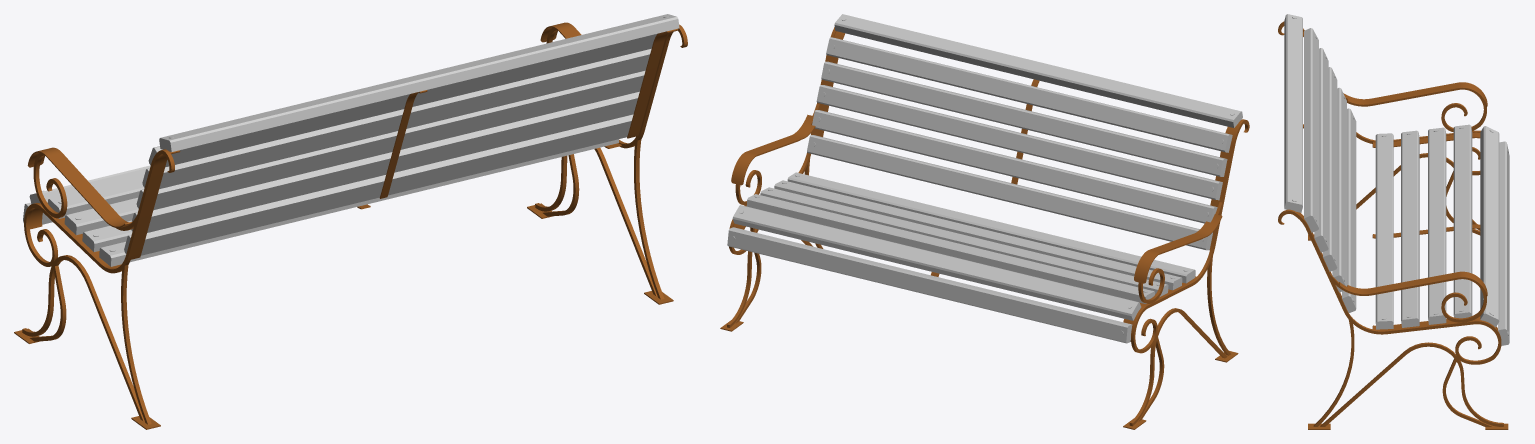
3 views of the same model, side by side, from view 1: azimuth 30°, elevation 25°; view 2: azimuth 150°, elevation 25°; view 3: azimuth 270°, elevation 25° (orthographic). The views are drawn at different scales.
Visible parts, largest first — view 1: mesh5_mesh5-geometry, mesh38_mesh38-geometry, mesh36_mesh36-geometry, mesh43_mesh43-geometry, mesh24_mesh24-geometry, mesh10_mesh10-geometry, mesh34_mesh34-geometry, mesh15_mesh15-geometry, mesh29_mesh29-geometry, mesh41_mesh41-geometry, mesh2_mesh2-geometry, mesh19_mesh19-geometry; view 2: mesh5_mesh5-geometry, mesh38_mesh38-geometry, mesh46_mesh46-geometry, mesh36_mesh36-geometry, mesh17_mesh17-geometry, mesh43_mesh43-geometry, mesh41_mesh41-geometry, mesh34_mesh34-geometry; view 3: mesh5_mesh5-geometry, mesh19_mesh19-geometry, mesh24_mesh24-geometry, mesh17_mesh17-geometry, mesh36_mesh36-geometry, mesh22_mesh22-geometry, mesh41_mesh41-geometry, mesh15_mesh15-geometry, mesh13_mesh13-geometry, mesh46_mesh46-geometry, mesh38_mesh38-geometry, mesh43_mesh43-geometry.
Part boxes in pixels (x1=…): mesh5_mesh5-geometry: x1=23, y1=14, x2=679, y2=266; mesh38_mesh38-geometry: x1=24, y1=149, x2=174, y2=273; mesh36_mesh36-geometry: x1=27, y1=147, x2=132, y2=227; mesh43_mesh43-geometry: x1=22, y1=255, x2=144, y2=421; mesh24_mesh24-geometry: x1=535, y1=147, x2=657, y2=296; mesh10_mesh10-geometry: x1=627, y1=28, x2=678, y2=138; mesh34_mesh34-geometry: x1=121, y1=264, x2=151, y2=424; mesh15_mesh15-geometry: x1=634, y1=139, x2=664, y2=299; mesh29_mesh29-geometry: x1=131, y1=150, x2=180, y2=259; mesh41_mesh41-geometry: x1=33, y1=153, x2=136, y2=230; mesh2_mesh2-geometry: x1=379, y1=90, x2=427, y2=198; mesh19_mesh19-geometry: x1=618, y1=24, x2=687, y2=148; mesh5_mesh5-geometry: x1=727, y1=14, x2=1242, y2=343; mesh38_mesh38-geometry: x1=1131, y1=119, x2=1249, y2=353; mesh46_mesh46-geometry: x1=837, y1=41, x2=947, y2=80; mesh36_mesh36-geometry: x1=1134, y1=214, x2=1222, y2=283; mesh17_mesh17-geometry: x1=731, y1=114, x2=815, y2=185; mesh43_mesh43-geometry: x1=1129, y1=308, x2=1227, y2=426; mesh41_mesh41-geometry: x1=1138, y1=202, x2=1222, y2=303; mesh34_mesh34-geometry: x1=1207, y1=256, x2=1230, y2=355; mesh5_mesh5-geometry: x1=1284, y1=14, x2=1509, y2=345; mesh19_mesh19-geometry: x1=1278, y1=209, x2=1501, y2=364; mesh24_mesh24-geometry: x1=1320, y1=342, x2=1503, y2=426; mesh17_mesh17-geometry: x1=1339, y1=271, x2=1487, y2=296; mesh36_mesh36-geometry: x1=1343, y1=82, x2=1487, y2=106; mesh22_mesh22-geometry: x1=1330, y1=274, x2=1486, y2=322; mesh41_mesh41-geometry: x1=1346, y1=88, x2=1486, y2=132; mesh15_mesh15-geometry: x1=1313, y1=320, x2=1354, y2=426; mesh13_mesh13-geometry: x1=1442, y1=358, x2=1493, y2=426; mesh46_mesh46-geometry: x1=1312, y1=161, x2=1318, y2=221; mesh38_mesh38-geometry: x1=1278, y1=21, x2=1480, y2=175; mesh43_mesh43-geometry: x1=1356, y1=153, x2=1480, y2=230.
Bounding box in the file's own units: 0.7993 × 0.4293 × 0.4204.
